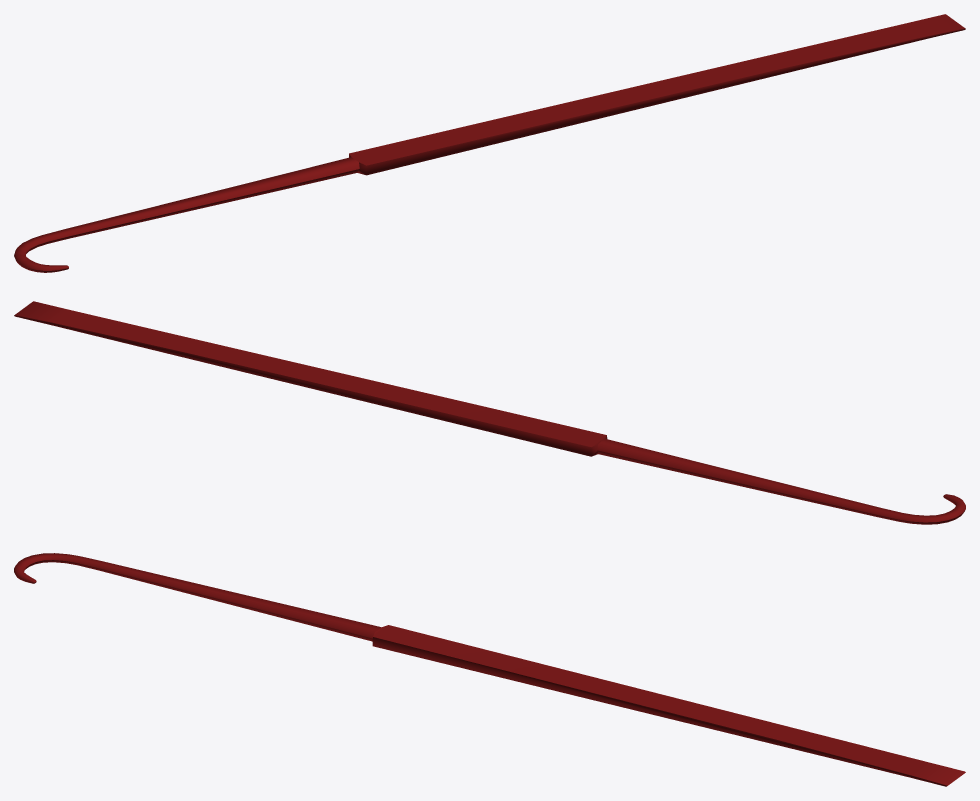
The model's file is SM_Dissecting_Tenaculum.FBX.
3 views of the same model, one above another, from view 1: azimuth 30°, elevation 25°; view 2: azimuth 150°, elevation 25°; view 3: azimuth 330°, elevation 25° (orthographic). The views are drawn at different scales.
Visible parts, largest first — view 1: Dissecting_Tenaculum; view 2: Dissecting_Tenaculum; view 3: Dissecting_Tenaculum.
Boxes of the visible parts, <box> form: Dissecting_Tenaculum: <box>14,14,965,272</box>; Dissecting_Tenaculum: <box>14,301,965,524</box>; Dissecting_Tenaculum: <box>14,553,965,786</box>.
Size of the model in its own units: 21.18 by 0.2269 by 1.76.
